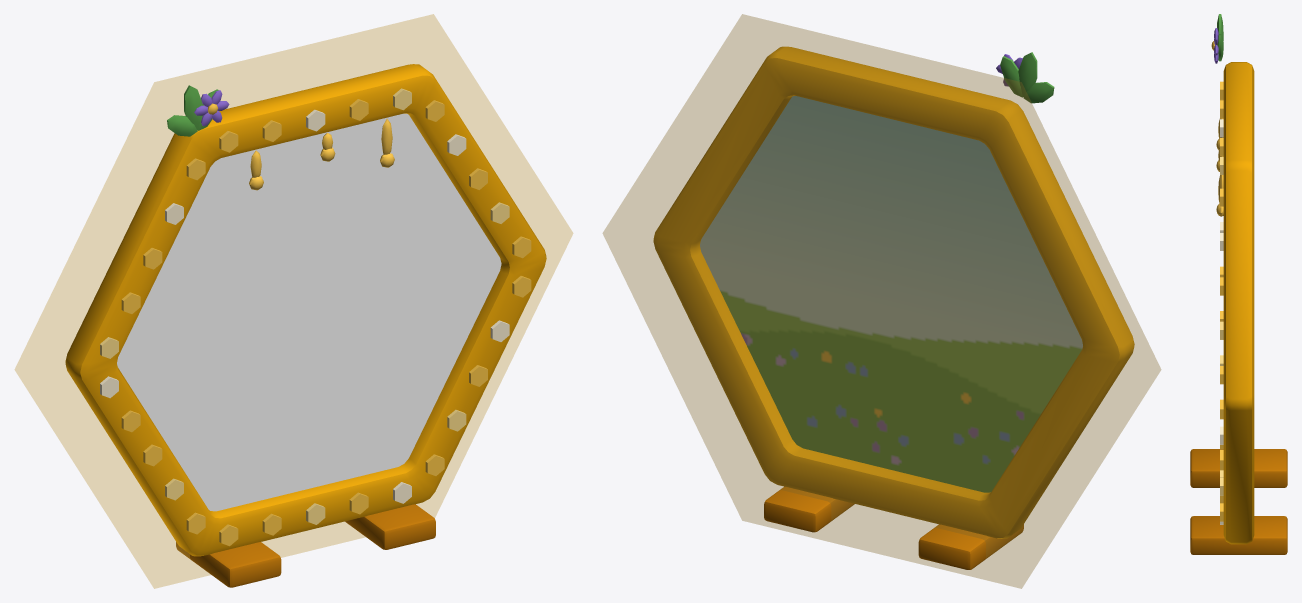
File: portal_frame.fbx
The picture shows the model from 3 angles, left to right: view 1: azimuth 30°, elevation 25°; view 2: azimuth 150°, elevation 25°; view 3: azimuth 270°, elevation 25°; orthographic projection. The views are drawn at different scales.
Visible parts, largest first — view 1: LivePane, Frame, Glow; view 2: Glow, FallbackPane, Frame; view 3: Frame.
Boxes of the visible parts, <box> form: LivePane: <box>117,113,501,511</box>; Frame: <box>65,64,546,587</box>; Glow: <box>14,14,573,588</box>; Glow: <box>602,14,1161,588</box>; FallbackPane: <box>700,96,1082,492</box>; Frame: <box>653,46,1134,569</box>; Frame: <box>1190,14,1287,554</box>.
Bounding box in the file's own units: 0.94 × 0.8303 × 0.16.
4 materials, 3 textured.
